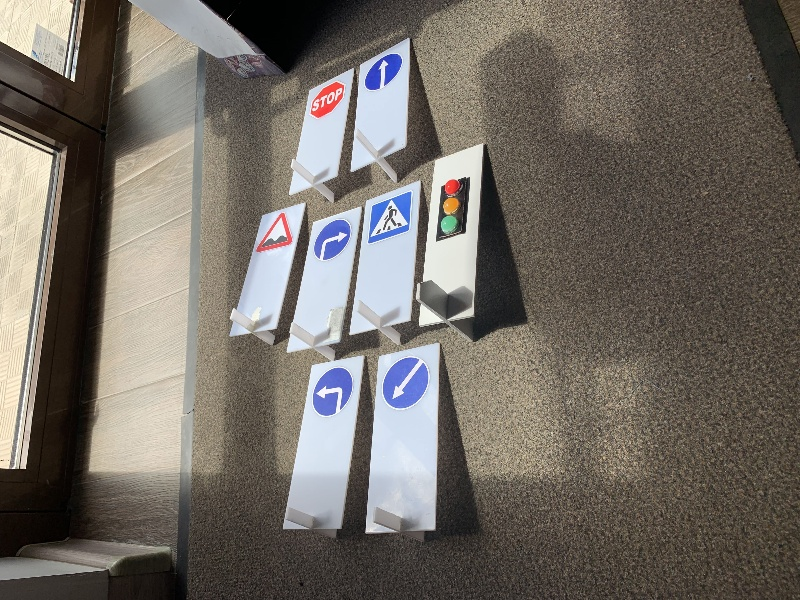Left: (311, 366, 355, 415)
Nerov: (255, 212, 292, 247)
Right: (313, 218, 350, 261)
Stop: (311, 81, 345, 115)
forw: (364, 54, 401, 92)
pesh: (365, 192, 412, 246)
prep: (381, 354, 429, 411)
